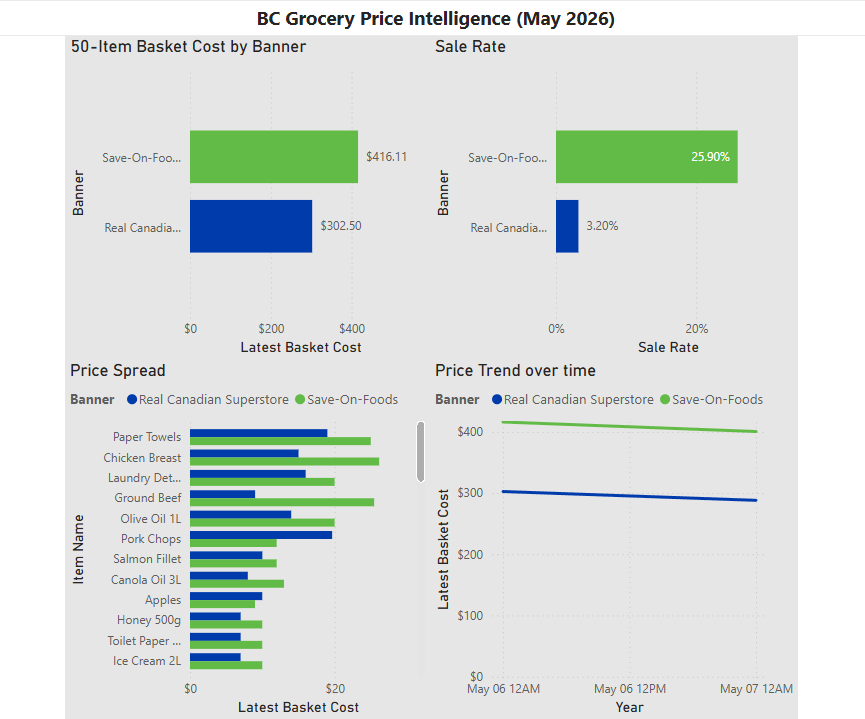

This screenshot's page, from the dashboard's own definition file:
{"tool":"powerbi","page":{"name":"Page 1","canvas":[1280,720],"ordinal":0},"visuals":[{"type":"clusteredBarChart","title":"50-Item Basket Cost by Banner","fields":{"Category":["banners.banner_name"],"Y":["banners.Latest Basket Cost"]},"box":[269,36,365,324],"z":0},{"type":"clusteredBarChart","title":"Sale Rate","fields":{"Category":["banners.banner_name"],"Y":["banners.Sale Rate"]},"box":[634,36,368,324],"z":1000},{"type":"clusteredBarChart","title":" Price Spread","fields":{"Category":["products.canonical_name"],"Series":["banners.banner_name"],"Y":["banners.Latest Basket Cost"]},"box":[269,360,365,360],"z":2000},{"type":"lineChart","title":" Price Trend over time","fields":{"Y":["banners.Latest Basket Cost"],"Category":["price_observations.observed_at.Variation.Date Hierarchy.Year","price_observations.observed_at.Variation.Date Hierarchy.Quarter","price_observations.observed_at.Variation.Date Hierarchy.Month","price_observations.observed_at.Variation.Date Hierarchy.Day"],"Series":["banners.banner_name"]},"box":[634,360,368,360],"z":2001},{"type":"textbox","box":[0,0,1280,36],"z":2002}]}

Visuals, with their boxes on the page's 1280x720 design canvas (x1, y1, x2, y2). These are canvas units, not pixel positions in the 865x719 screenshot, which may show the page scaled, cropped or inside an application window:
"50-Item Basket Cost by Banner" clusteredBarChart: x1=269, y1=36, x2=634, y2=360
"Sale Rate" clusteredBarChart: x1=634, y1=36, x2=1002, y2=360
" Price Spread" clusteredBarChart: x1=269, y1=360, x2=634, y2=720
" Price Trend over time" lineChart: x1=634, y1=360, x2=1002, y2=720
textbox: x1=0, y1=0, x2=1280, y2=36
